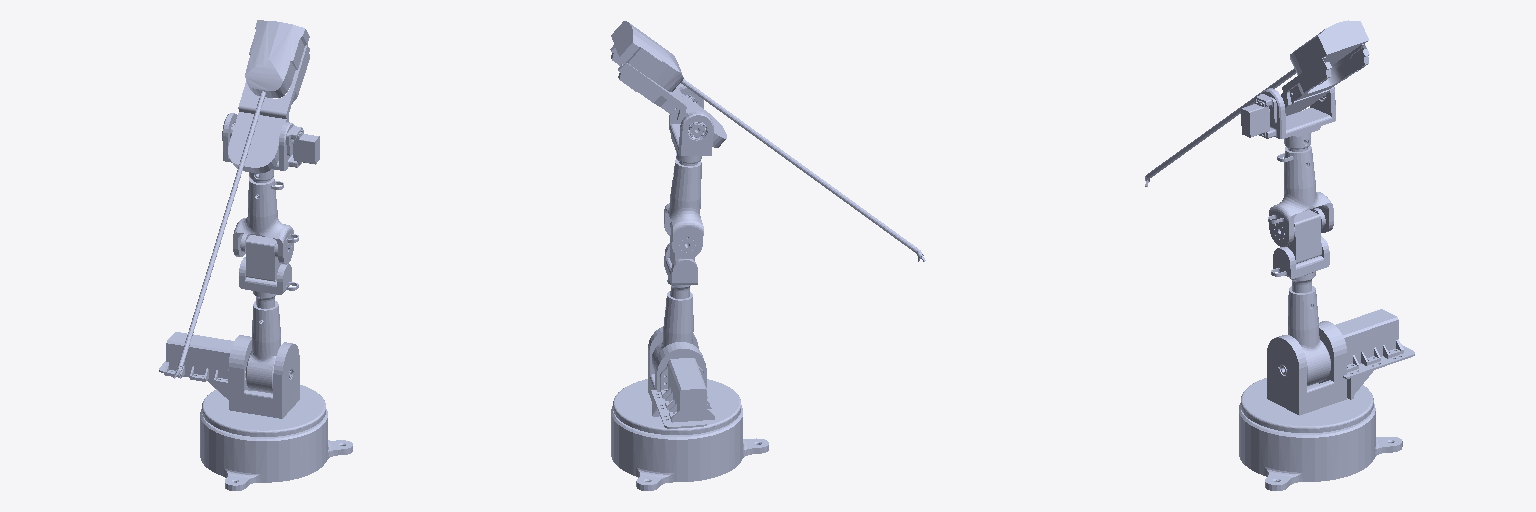
URDF robot description (robo_surgeon):
<?xml version="1.0" encoding="utf-8"?>
<!-- This URDF was automatically created by SolidWorks to URDF Exporter! Originally created by [author] ([email redacted]) 
     Commit Version: 1.6.0-4-g7f85cfe  Build Version: 1.6.7995.38578
     For more information, please see http://wiki.ros.org/sw_urdf_exporter -->
<robot
  name="robo_surgeon">
  <link
    name="base_link">
    <inertial>
      <origin
        xyz="5.45159236685514E-05 -0.000399081710402182 0.0446947969006861"
        rpy="0 0 0" />
      <mass
        value="1.07379139205857" />
      <inertia
        ixx="0.00402747876832871"
        ixy="3.41583049207223E-06"
        ixz="-1.56626887621309E-06"
        iyy="0.00400531073534176"
        iyz="8.32964112236424E-06"
        izz="0.00694039322912872" />
    </inertial>
    <visual>
      <origin
        xyz="0 0 0"
        rpy="0 0 0" />
      <geometry>
        <mesh
          filename="package://robo_surgeon/meshes/base_link.STL" />
      </geometry>
      <material
        name="">
        <color
          rgba="0.792156862745098 0.819607843137255 0.933333333333333 1" />
      </material>
    </visual>
    <collision>
      <origin
        xyz="0 0 0"
        rpy="0 0 0" />
      <geometry>
        <mesh
          filename="package://robo_surgeon/meshes/base_link.STL" />
      </geometry>
    </collision>
  </link>
  <link
    name="rotating plat">
    <inertial>
      <origin
        xyz="-0.00624396650572525 0.0665143480778565 -0.028908448431995"
        rpy="0 0 0" />
      <mass
        value="1.03016312985421" />
      <inertia
        ixx="0.00159275298605219"
        ixy="2.83331836017957E-06"
        ixz="-4.79303643599935E-05"
        iyy="0.00210005169443648"
        iyz="1.20274311743144E-05"
        izz="0.00139974128123565" />
    </inertial>
    <visual>
      <origin
        xyz="0 0 0"
        rpy="0 0 0" />
      <geometry>
        <mesh
          filename="package://robo_surgeon/meshes/rotating plat.STL" />
      </geometry>
      <material
        name="">
        <color
          rgba="0.792156862745098 0.819607843137255 0.933333333333333 1" />
      </material>
    </visual>
    <collision>
      <origin
        xyz="0 0 0"
        rpy="0 0 0" />
      <geometry>
        <mesh
          filename="package://robo_surgeon/meshes/rotating plat.STL" />
      </geometry>
    </collision>
  </link>
  <joint
    name="rotating plat"
    type="revolute">
    <origin
      xyz="0.00014623 -0.00093908 0.051"
      rpy="1.5708 0 0.45185" />
    <parent
      link="base_link" />
    <child
      link="rotating plat" />
    <axis
      xyz="0 -1 0" />
    <limit
      lower="-2.3562"
      upper="2.3562"
      effort="4.5"
      velocity="3.5" />
  </joint>
  <link
    name="shoulder">
    <inertial>
      <origin
        xyz="-0.0376166349407513 0.106676355594488 0.0139682113949096"
        rpy="0 0 0" />
      <mass
        value="0.352205878685977" />
      <inertia
        ixx="0.000402656884118358"
        ixy="9.12472240942998E-05"
        ixz="-4.44912274227377E-07"
        iyy="0.000188161355208957"
        iyz="-1.88566356117672E-05"
        izz="0.000404992794339975" />
    </inertial>
    <visual>
      <origin
        xyz="0 0 0"
        rpy="0 0 0" />
      <geometry>
        <mesh
          filename="package://robo_surgeon/meshes/shoulder.STL" />
      </geometry>
      <material
        name="">
        <color
          rgba="0.792156862745098 0.819607843137255 0.933333333333333 1" />
      </material>
    </visual>
    <collision>
      <origin
        xyz="0 0 0"
        rpy="0 0 0" />
      <geometry>
        <mesh
          filename="package://robo_surgeon/meshes/shoulder.STL" />
      </geometry>
    </collision>
  </link>
  <joint
    name="shoulder"
    type="revolute">
    <origin
      xyz="0 0.097 0"
      rpy="-0.070463 -0.010841 -0.30519" />
    <parent
      link="rotating plat" />
    <child
      link="shoulder" />
    <axis
      xyz="0.22813 0 0.97363" />
    <limit
      lower="-2.3562"
      upper="2.3562"
      effort="35"
      velocity="3.5" />
  </joint>
  <link
    name="elbow">
    <inertial>
      <origin
        xyz="0.00236534487815723 0.109375883200279 0.0100819201715995"
        rpy="0 0 0" />
      <mass
        value="0.369635386952474" />
      <inertia
        ixx="0.000513660356166473"
        ixy="-3.09622701923035E-06"
        ixz="-4.808452710228E-05"
        iyy="0.000321612685390011"
        iyz="-1.32398437965552E-05"
        izz="0.000319822686669995" />
    </inertial>
    <visual>
      <origin
        xyz="0 0 0"
        rpy="0 0 0" />
      <geometry>
        <mesh
          filename="package://robo_surgeon/meshes/elbow.STL" />
      </geometry>
      <material
        name="">
        <color
          rgba="0.792156862745098 0.819607843137255 0.933333333333333 1" />
      </material>
    </visual>
    <collision>
      <origin
        xyz="0 0 0"
        rpy="0 0 0" />
      <geometry>
        <mesh
          filename="package://robo_surgeon/meshes/elbow.STL" />
      </geometry>
    </collision>
  </link>
  <joint
    name="elbow"
    type="revolute">
    <origin
      xyz="-0.07417 0.20426 0.017379"
      rpy="0.084933 -0.015924 0.37046" />
    <parent
      link="shoulder" />
    <child
      link="elbow" />
    <axis
      xyz="-0.22813 0 -0.97363" />
    <limit
      lower="-2.3562"
      upper="2.3562"
      effort="15"
      velocity="3.5" />
  </joint>
  <link
    name="wrist">
    <inertial>
      <origin
        xyz="-0.00943950955234735 0.0660733540868991 0.00246856643503929"
        rpy="0 0 0" />
      <mass
        value="0.549040489337603" />
      <inertia
        ixx="0.00344697171868037"
        ixy="-0.000525734077846984"
        ixz="-2.93917564957337E-05"
        iyy="0.0004072663940434"
        iyz="0.000123189471980171"
        izz="0.0033284343362078" />
    </inertial>
    <visual>
      <origin
        xyz="0 0 0"
        rpy="0 0 0" />
      <geometry>
        <mesh
          filename="package://robo_surgeon/meshes/wrist.STL" />
      </geometry>
      <material
        name="">
        <color
          rgba="0.792156862745098 0.819607843137255 0.933333333333333 1" />
      </material>
    </visual>
    <collision>
      <origin
        xyz="0 0 0"
        rpy="0 0 0" />
      <geometry>
        <mesh
          filename="package://robo_surgeon/meshes/wrist.STL" />
      </geometry>
    </collision>
  </link>
  <joint
    name="wrist"
    type="revolute">
    <origin
      xyz="3.1123E-05 0.19594 0"
      rpy="-0.15591 -0.059183 -0.72443" />
    <parent
      link="elbow" />
    <child
      link="wrist" />
    <axis
      xyz="0.22813 0 0.97363" />
    <limit
      lower="-2.3562"
      upper="2.3562"
      effort="4.5"
      velocity="3.5" />
  </joint>
  <link
    name="Roll">
    <inertial>
      <origin
        xyz="-2.57486720833811E-09 0.00460505638659822 6.85083644258455E-07"
        rpy="0 0 0" />
      <mass
        value="0.000352834590441443" />
      <inertia
        ixx="3.52133821186981E-09"
        ixy="5.44335443618572E-15"
        ixz="1.05765248923479E-14"
        iyy="2.80572355118843E-09"
        iyz="-9.64645627922809E-13"
        izz="3.97771527048884E-09" />
    </inertial>
    <visual>
      <origin
        xyz="0 0 0"
        rpy="0 0 0" />
      <geometry>
        <mesh
          filename="package://robo_surgeon/meshes/Roll.STL" />
      </geometry>
      <material
        name="">
        <color
          rgba="0.792156862745098 0.819607843137255 0.933333333333333 1" />
      </material>
    </visual>
    <collision>
      <origin
        xyz="0 0 0"
        rpy="0 0 0" />
      <geometry>
        <mesh
          filename="package://robo_surgeon/meshes/Roll.STL" />
      </geometry>
    </collision>
  </link>
  <joint
    name="Roll"
    type="revolute">
    <origin
      xyz="-0.10665 -0.40338 0.025246"
      rpy="0.044673 0.42669 2.9856" />
    <parent
      link="wrist" />
    <child
      link="Roll" />
    <axis
      xyz="0 1 0" />
    <limit
      lower="-1.5708"
      upper="1.5708"
      effort="1.2748"
      velocity="3.5" />
  </joint>
  <link
    name="Yaw">
    <inertial>
      <origin
        xyz="-9.44798456137264E-09 0.00404622316467828 -3.81429557244628E-06"
        rpy="0 0 0" />
      <mass
        value="0.000312033095027245" />
      <inertia
        ixx="4.28824534764502E-09"
        ixy="-1.74398562102466E-14"
        ixz="1.82526518334343E-14"
        iyy="2.3853099749667E-09"
        iyz="-2.58110190118632E-12"
        izz="3.48784615971433E-09" />
    </inertial>
    <visual>
      <origin
        xyz="0 0 0"
        rpy="0 0 0" />
      <geometry>
        <mesh
          filename="package://robo_surgeon/meshes/Yaw.STL" />
      </geometry>
      <material
        name="">
        <color
          rgba="0.792156862745098 0.819607843137255 0.933333333333333 1" />
      </material>
    </visual>
    <collision>
      <origin
        xyz="0 0 0"
        rpy="0 0 0" />
      <geometry>
        <mesh
          filename="package://robo_surgeon/meshes/Yaw.STL" />
      </geometry>
    </collision>
  </link>
  <joint
    name="Yaw"
    type="revolute">
    <origin
      xyz="0 0.0086093 0"
      rpy="-2.6864 0 3.1416" />
    <parent
      link="Roll" />
    <child
      link="Yaw" />
    <axis
      xyz="-1 0 0" />
    <limit
      lower="-1.5708"
      upper="1.5708"
      effort="1.2748"
      velocity="3.5" />
  </joint>
  <link
    name="Pitch1">
    <inertial>
      <origin
        xyz="0.00499040031133615 0.000764359884582178 -0.000301970078778302"
        rpy="0 0 0" />
      <mass
        value="9.04568568398412E-05" />
      <inertia
        ixx="1.76457893824391E-10"
        ixy="-1.0053836769791E-10"
        ixz="-1.23647436232591E-10"
        iyy="1.29157844598399E-09"
        iyz="-1.42120255140136E-11"
        izz="1.24331483985866E-09" />
    </inertial>
    <visual>
      <origin
        xyz="0 0 0"
        rpy="0 0 0" />
      <geometry>
        <mesh
          filename="package://robo_surgeon/meshes/Pitch1.STL" />
      </geometry>
      <material
        name="">
        <color
          rgba="0.792156862745098 0.819607843137255 0.933333333333333 1" />
      </material>
    </visual>
    <collision>
      <origin
        xyz="0 0 0"
        rpy="0 0 0" />
      <geometry>
        <mesh
          filename="package://robo_surgeon/meshes/Pitch1.STL" />
      </geometry>
    </collision>
  </link>
  <joint
    name="Pitch1"
    type="revolute">
    <origin
      xyz="0 0.00736 0"
      rpy="0 0 1.5317" />
    <parent
      link="Yaw" />
    <child
      link="Pitch1" />
    <axis
      xyz="0 0 -1" />
    <limit
      lower="-1.5708"
      upper="1.5708"
      effort="1.2748"
      velocity="3.5" />
  </joint>
  <link
    name="Pitch2">
    <inertial>
      <origin
        xyz="0.00499040031133419 0.000764359884577681 -0.000301970078784519"
        rpy="0 0 0" />
      <mass
        value="9.04568568398405E-05" />
      <inertia
        ixx="1.76457893824382E-10"
        ixy="-1.00538367697869E-10"
        ixz="-1.2364743623259E-10"
        iyy="1.29157844598398E-09"
        iyz="-1.4212025514009E-11"
        izz="1.24331483985864E-09" />
    </inertial>
    <visual>
      <origin
        xyz="0 0 0"
        rpy="0 0 0" />
      <geometry>
        <mesh
          filename="package://robo_surgeon/meshes/Pitch2.STL" />
      </geometry>
      <material
        name="">
        <color
          rgba="0.792156862745098 0.819607843137255 0.933333333333333 1" />
      </material>
    </visual>
    <collision>
      <origin
        xyz="0 0 0"
        rpy="0 0 0" />
      <geometry>
        <mesh
          filename="package://robo_surgeon/meshes/Pitch2.STL" />
      </geometry>
    </collision>
  </link>
  <joint
    name="Pitch2"
    type="revolute">
    <origin
      xyz="0 0.00736 0"
      rpy="3.1416 0 0.63818" />
    <parent
      link="Yaw" />
    <child
      link="Pitch2" />
    <axis
      xyz="0 0 -1" />
    <limit
      lower="-1.5708"
      upper="1.5708"
      effort="1.2748"
      velocity="3.5" />
  </joint>
</robot>

--- Render facts (derived) ---
3 views of the same robot in one strip: view 1: azimuth 30°, elevation 25°; view 2: azimuth 150°, elevation 25°; view 3: azimuth 270°, elevation 25° (orthographic).
Robot: robo_surgeon — 9 links, 8 joints (8 revolute); root link base_link; default pose: every joint at zero.
Links seen in each view (by area): view 1: rotating plat, wrist, base_link, shoulder, elbow; view 2: rotating plat, base_link, wrist, elbow, shoulder; view 3: rotating plat, base_link, elbow, wrist, shoulder.
Boxes of the visible links, <box> form: rotating plat: <box>159,332,325,436</box>; wrist: <box>179,20,309,363</box>; base_link: <box>200,409,352,490</box>; shoulder: <box>239,235,298,393</box>; elbow: <box>222,113,319,264</box>; rotating plat: <box>613,327,740,434</box>; base_link: <box>611,405,768,490</box>; wrist: <box>610,21,915,250</box>; elbow: <box>664,83,713,258</box>; shoulder: <box>652,222,697,370</box>; rotating plat: <box>1241,309,1414,432</box>; base_link: <box>1239,403,1402,490</box>; elbow: <box>1241,87,1335,246</box>; wrist: <box>1148,20,1369,177</box>; shoulder: <box>1271,210,1330,385</box>.
Bounding box of the posed robot: 0.4299 × 0.3939 × 0.7168 m (x, y, z).
9 mesh visuals loaded from 9 distinct referenced files (9 binary STL).
